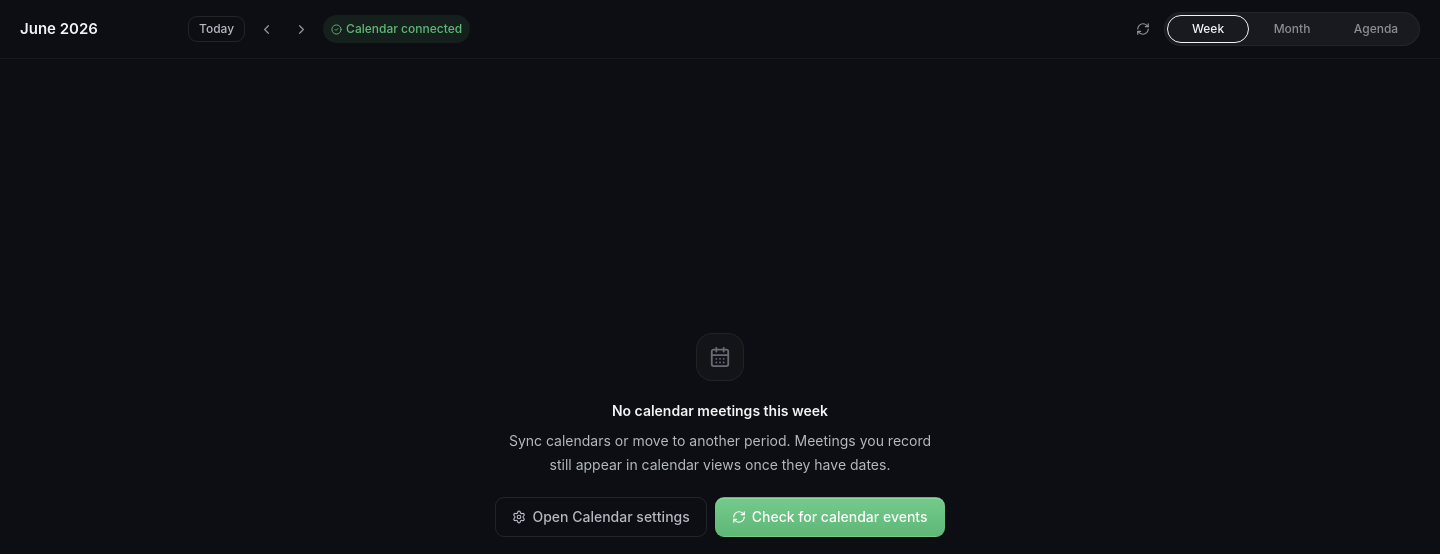
Test: CalendarView › distinguishes connected calendar views with no visible meetings
The width and height of the screenshot is (1440, 554).
Expected: the heading "No calendar meetings this week" is shown, [612,400,828,420]
Expected: the text "Calendar connected" is shown, [323,15,470,43]
Click the button "Month". click: (1292, 29)
box: [1251,15,1333,43]
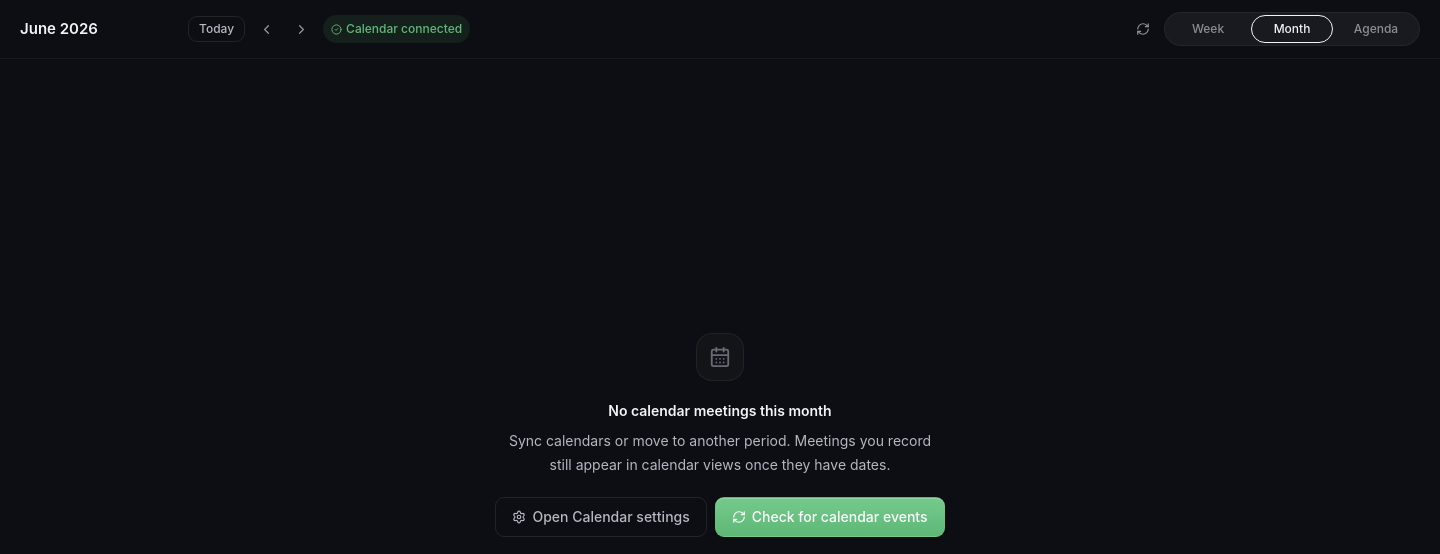
Now the heading "No calendar meetings this month" is shown, box [608,400,832,420]
Click the button "Agenda". click: (1376, 29)
box: [1335,15,1417,43]
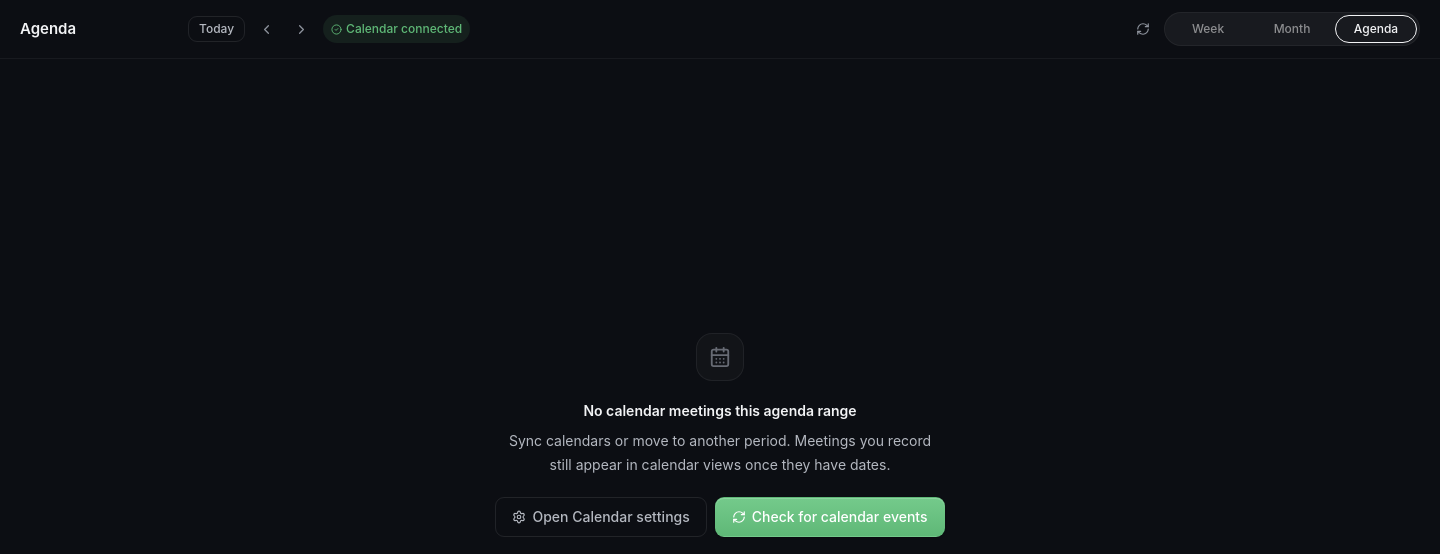
Now the heading "No calendar meetings this agenda range" is shown, box [583,400,856,420]
